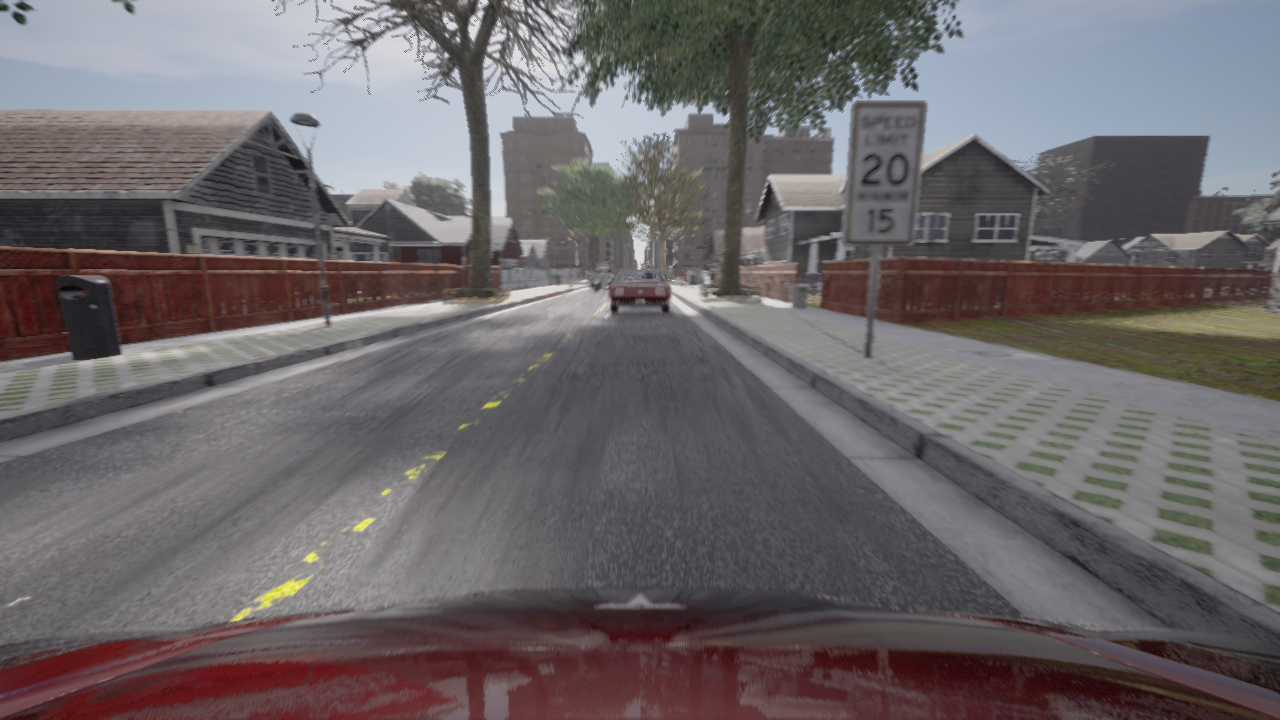cyclist: (0, 588, 1279, 719), (609, 271, 670, 311), (589, 267, 616, 289), (591, 273, 603, 293)
